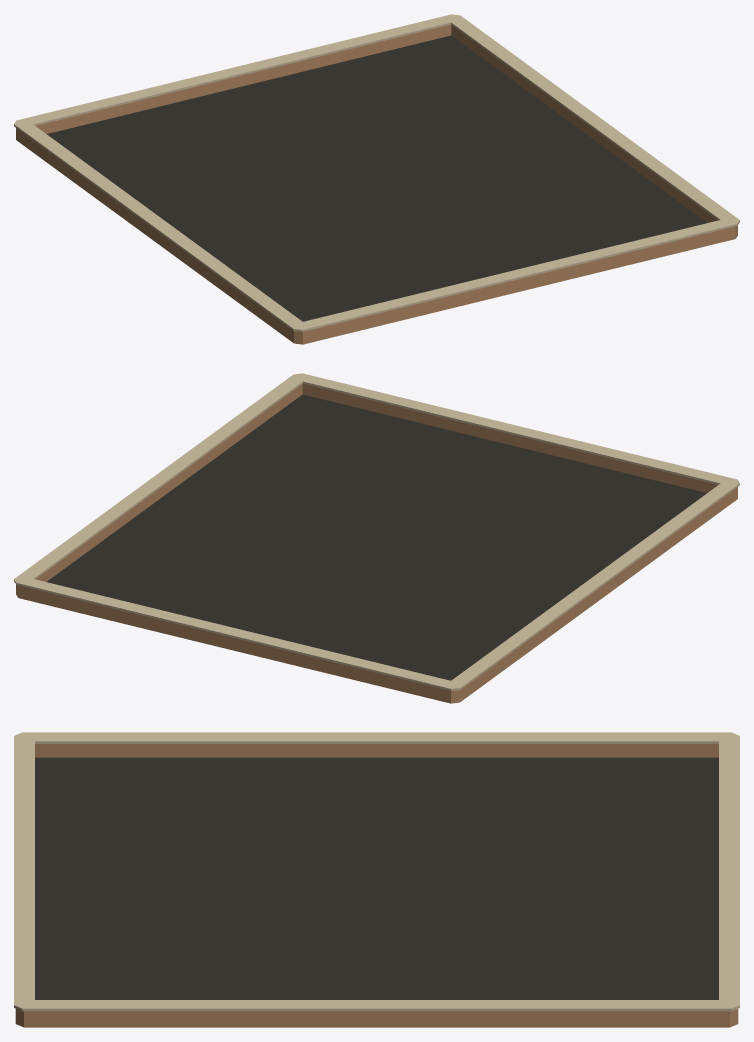
Rendered from SM_Homes_H03_Roof_LOD2.fbx.
The picture shows the model from 3 angles, top to bottom: view 1: azimuth 30°, elevation 25°; view 2: azimuth 150°, elevation 25°; view 3: azimuth 270°, elevation 25°; orthographic projection. The views are drawn at different scales.
Parts seen in each view (by area): view 1: SM_Homes_H03_Roof_LOD2; view 2: SM_Homes_H03_Roof_LOD2; view 3: SM_Homes_H03_Roof_LOD2.
Part boxes in pixels (left/top/right/bottom): SM_Homes_H03_Roof_LOD2: left=14, top=14, right=739, bottom=344; SM_Homes_H03_Roof_LOD2: left=14, top=373, right=739, bottom=703; SM_Homes_H03_Roof_LOD2: left=14, top=732, right=739, bottom=1027.
Size of the model in its own units: 9.05 by 10.05 by 0.34.
